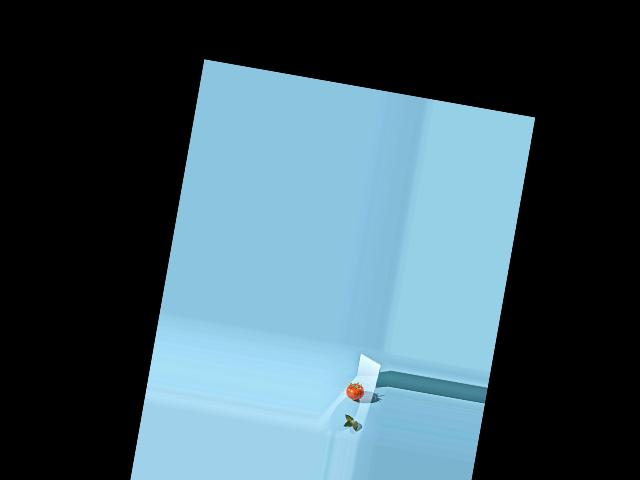tomato: (344, 381, 365, 401)
